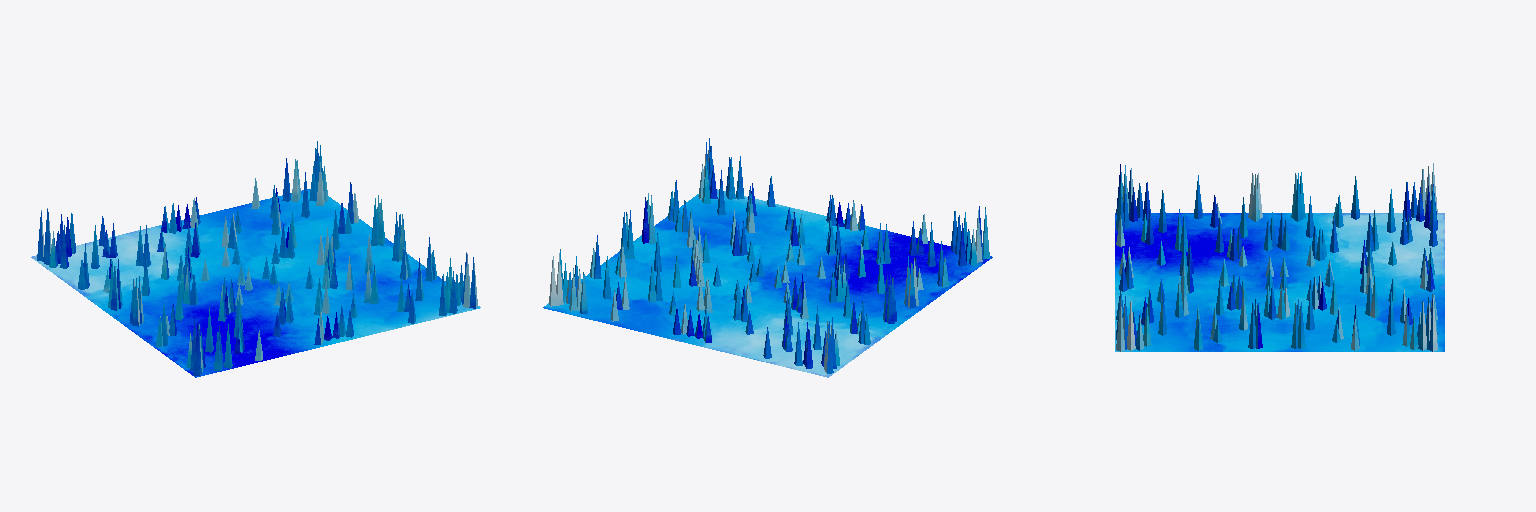
3 views of the same model, side by side, from view 1: azimuth 30°, elevation 25°; view 2: azimuth 150°, elevation 25°; view 3: azimuth 270°, elevation 25° (orthographic).
Visible parts, largest first — view 1: floor; view 2: floor; view 3: floor.
Boxes of the visible parts, box(x1,y1,x2,y2) form: floor: box(31, 141, 480, 377); floor: box(543, 138, 992, 377); floor: box(1115, 163, 1444, 351).
Bounding box in the file's own units: 1 × 0.177 × 1.
Materials: 1 (1 with a texture image).